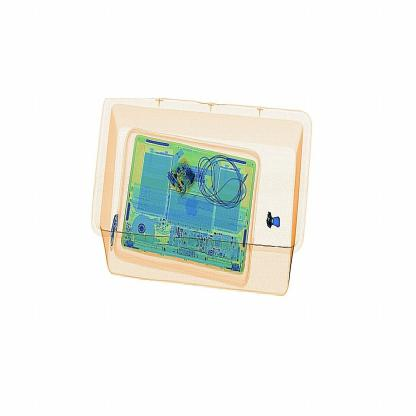wrench: (254, 201, 296, 239)
